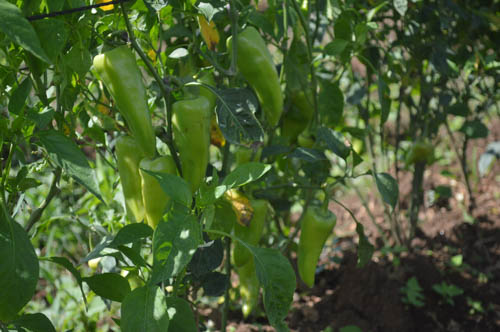ChiliPepper: (95, 47, 157, 154), (233, 30, 281, 120), (296, 204, 335, 289), (176, 96, 210, 190), (136, 157, 174, 238), (231, 199, 272, 266), (113, 137, 141, 215), (186, 71, 218, 103)
